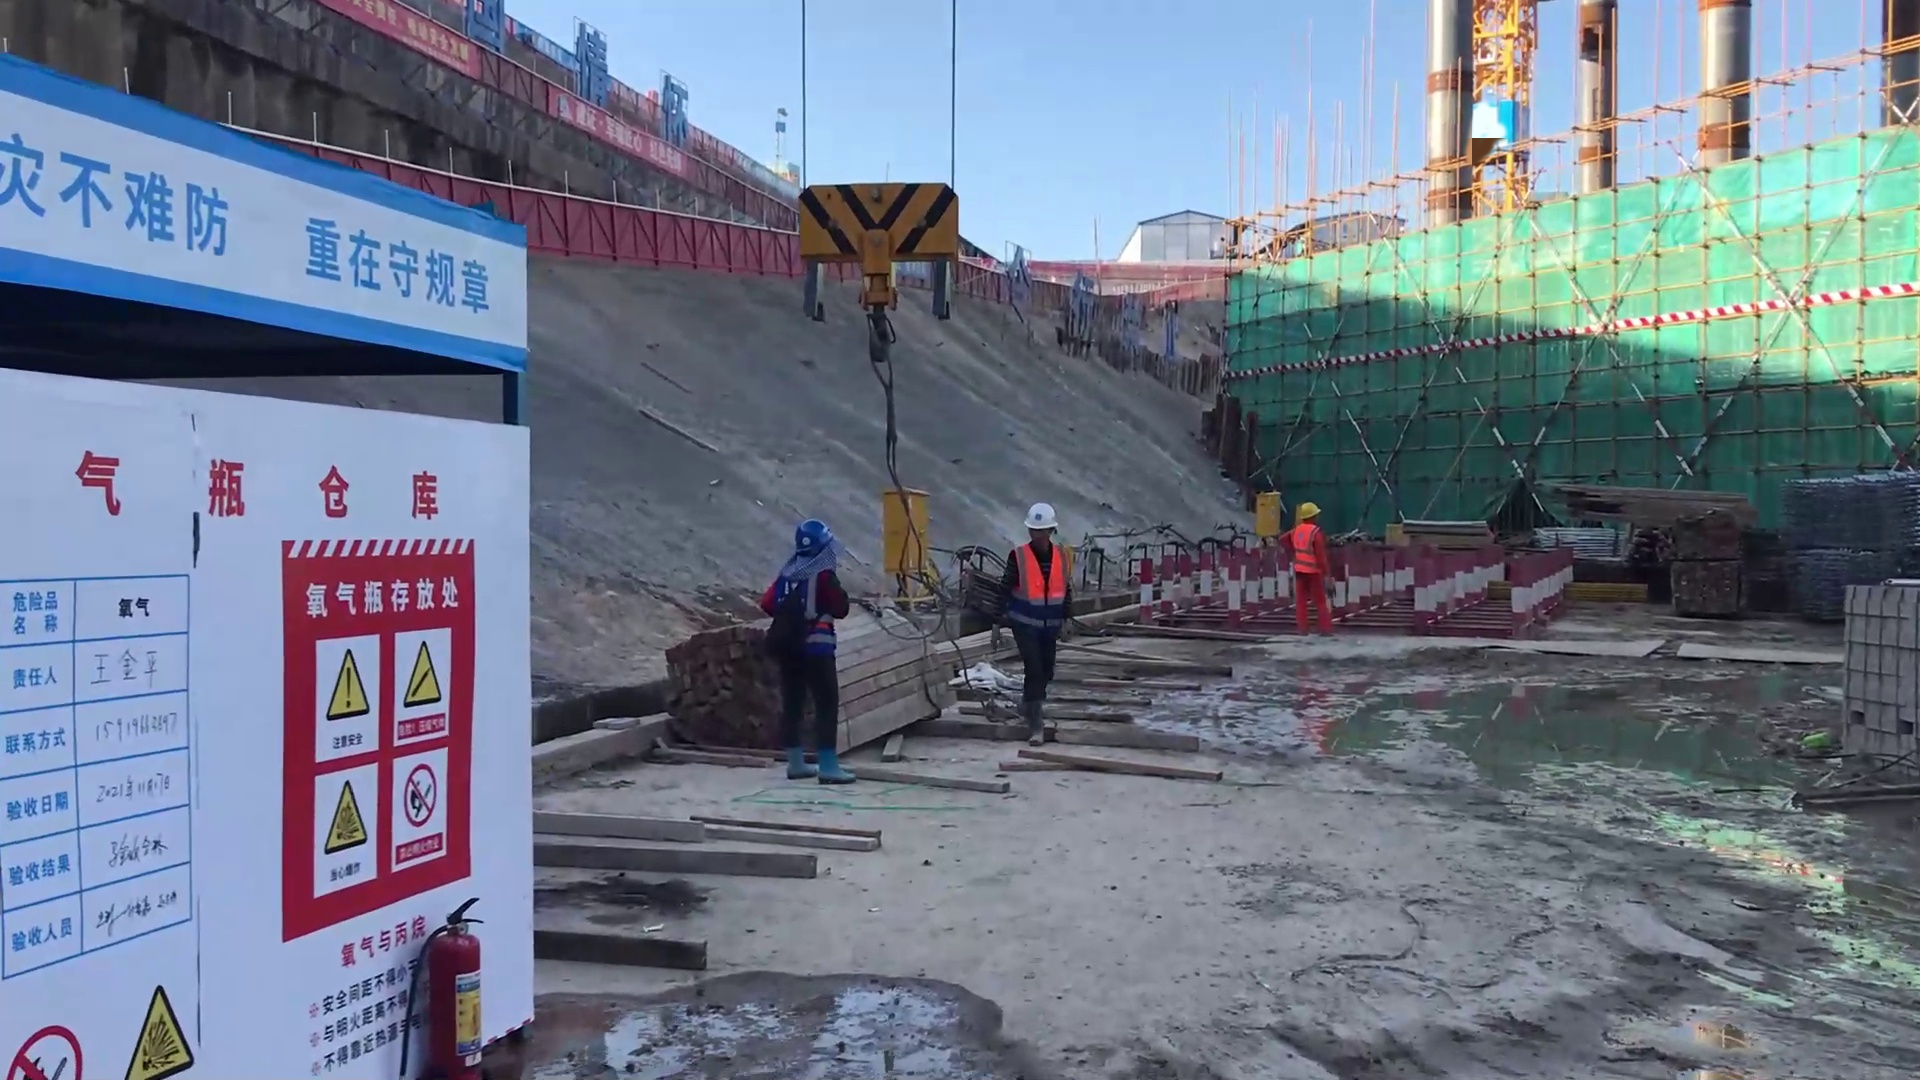brick: (1810, 563, 1920, 769)
ebox: (871, 493, 934, 586)
fence: (547, 186, 780, 279)
helmet: (1018, 491, 1058, 540), (782, 518, 832, 557), (1292, 501, 1318, 522)
hook: (782, 184, 963, 333)
person: (760, 517, 855, 794), (986, 501, 1067, 750), (1278, 502, 1339, 638)
scaffold: (1788, 470, 1905, 555)
slogan: (6, 119, 548, 360), (255, 545, 485, 893), (18, 978, 211, 1080)
vest: (769, 560, 828, 650), (1006, 540, 1060, 610), (1290, 523, 1323, 582)
wood: (1538, 456, 1723, 535), (838, 618, 967, 731)
